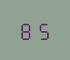eight: (19, 20, 34, 40)
five: (35, 20, 50, 40)
